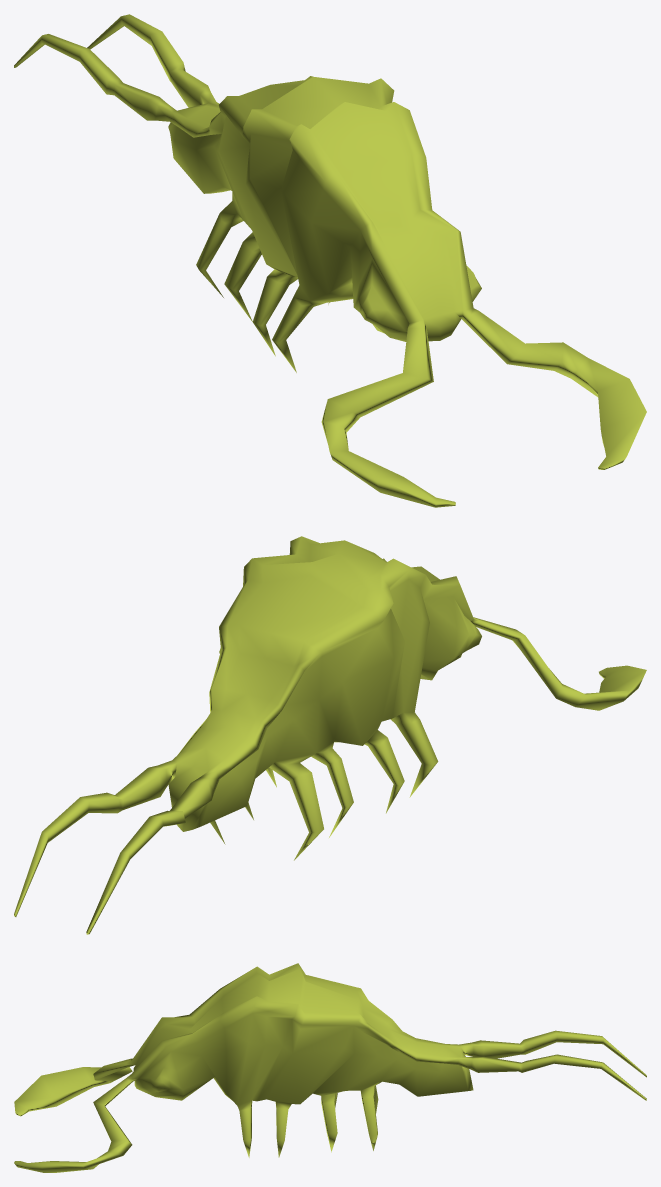
File: alienGrunt.fbx
3 views of the same model, one above another, from view 1: azimuth 30°, elevation 25°; view 2: azimuth 150°, elevation 25°; view 3: azimuth 270°, elevation 25° (orthographic). The views are drawn at different scales.
Parts seen in each view (by area): view 1: alienGrunt; view 2: alienGrunt; view 3: alienGrunt.
Part boxes in pixels (<box>): alienGrunt: <box>14,14,646,507</box>; alienGrunt: <box>14,536,646,934</box>; alienGrunt: <box>14,963,646,1172</box>.
Size of the model in its own units: 2.56 by 2.08 by 7.14.
